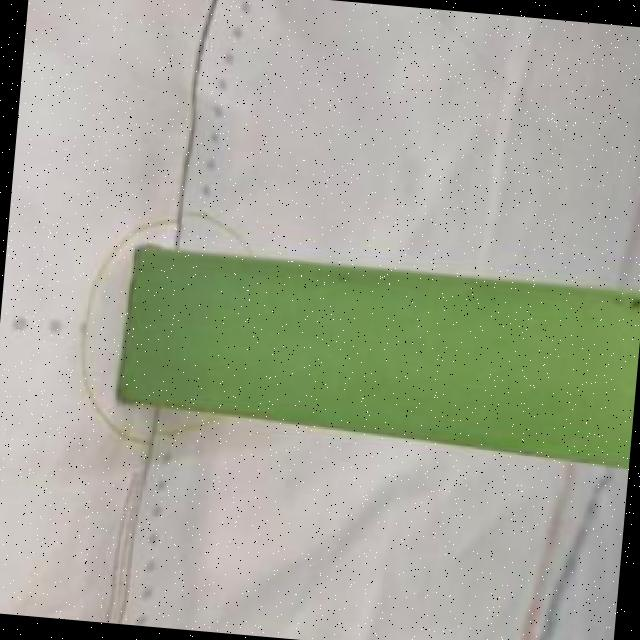greenbox: (97, 226, 640, 475)
